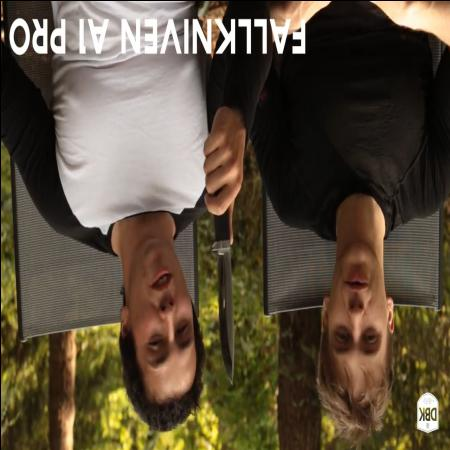long weapon: (202, 148, 240, 398)
